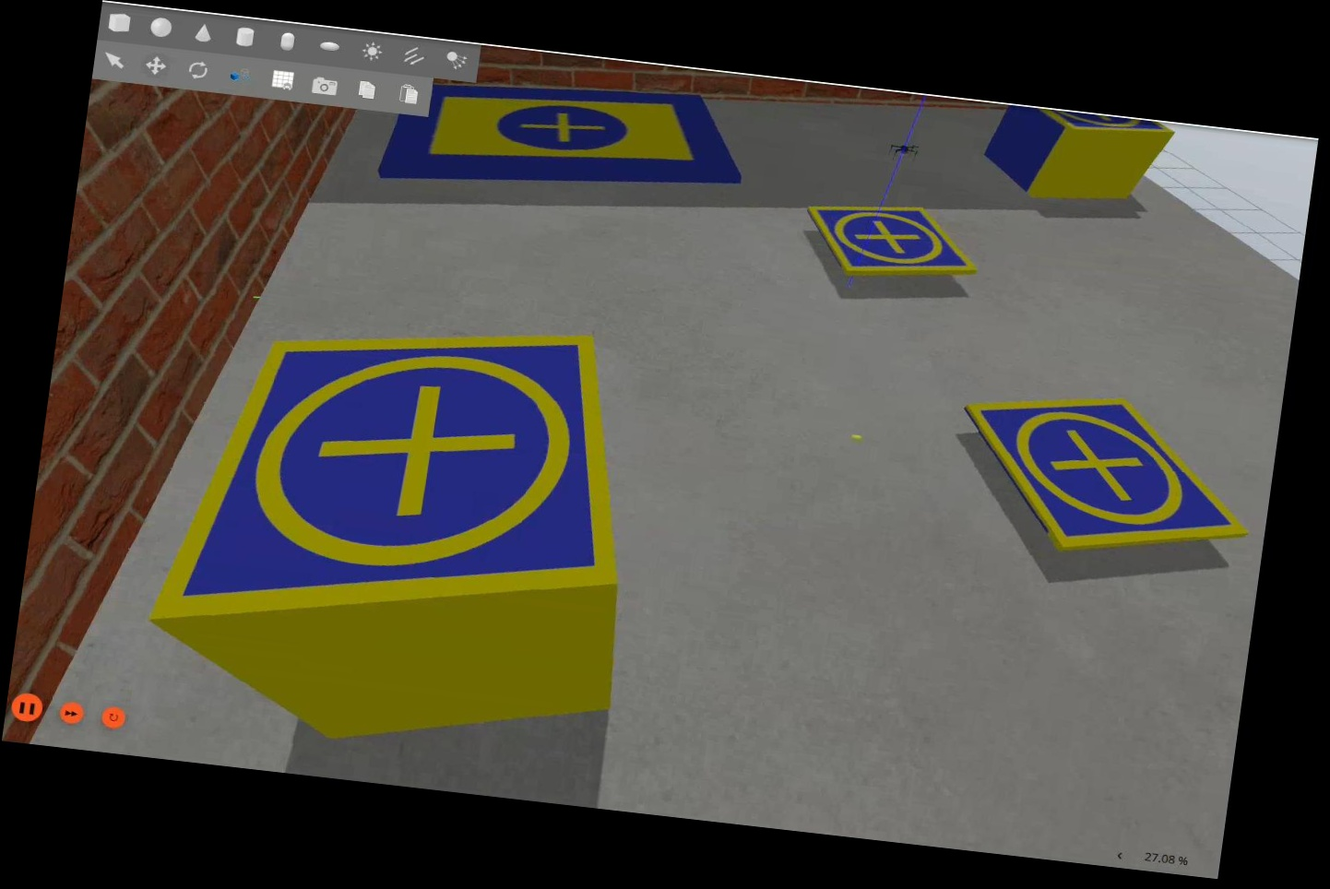large_base: (374, 59, 754, 222)
small_base: (145, 291, 653, 680), (949, 383, 1264, 572), (799, 198, 986, 294), (1003, 103, 1178, 144)
